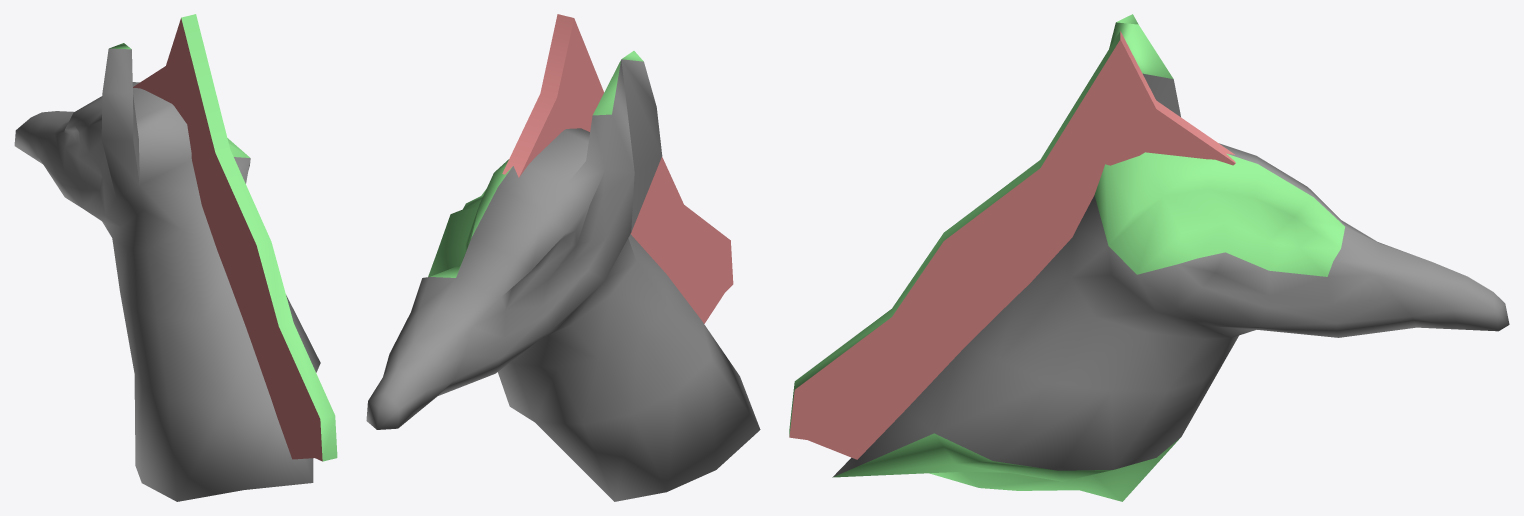
File: SSQ_statue02_b04.gltf
3 renders of one model, left to right at view 1: azimuth 30°, elevation 25°; view 2: azimuth 150°, elevation 25°; view 3: azimuth 270°, elevation 25°, orthographic. The views are drawn at different scales.
Visible parts, largest first — view 1: SSQ_statue02_b04; view 2: SSQ_statue02_b04; view 3: SSQ_statue02_b04.
Part boxes in pixels (box(x1,y1,x2,y2)): SSQ_statue02_b04: box(14, 14, 337, 501); SSQ_statue02_b04: box(366, 14, 760, 501); SSQ_statue02_b04: box(789, 14, 1509, 501).
Size of the model in its own units: 0.2347 by 0.5553 by 0.7363.
